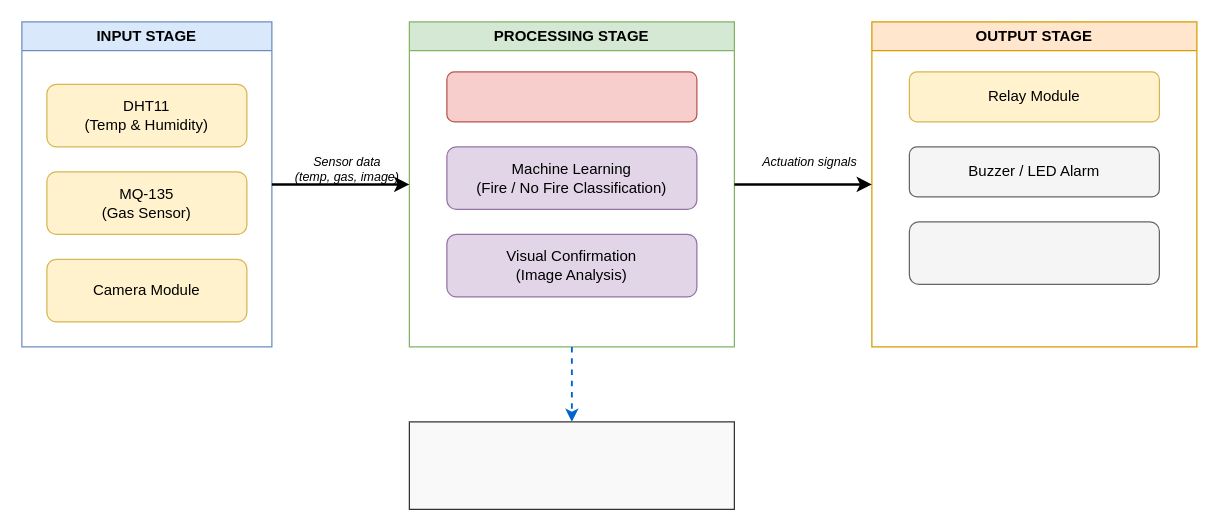
The diagram is 1219 pixels wide and 531 high, and some of its shapes have lost their labels. The centre of each missing label's shape, as x and y in pixels:
"CO₂ / Water Suppression Pump" goes at point (1033, 252).
"IoT Capability: Remote Monitoring & Control (Wi-Fi)" goes at point (571, 465).
"Raspberry Pi 3 B+" goes at point (571, 96).
